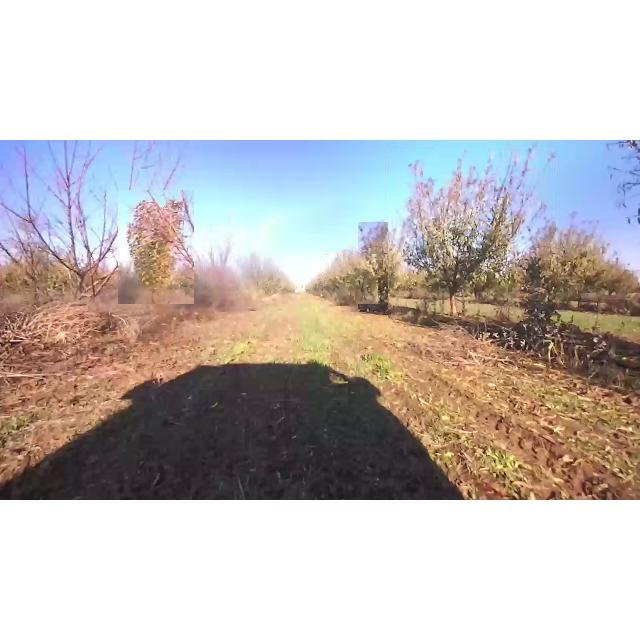direk: (388, 148, 556, 320), (1, 142, 134, 302), (520, 224, 614, 318), (118, 190, 194, 304), (358, 222, 418, 312), (326, 254, 378, 304), (206, 228, 236, 304)
